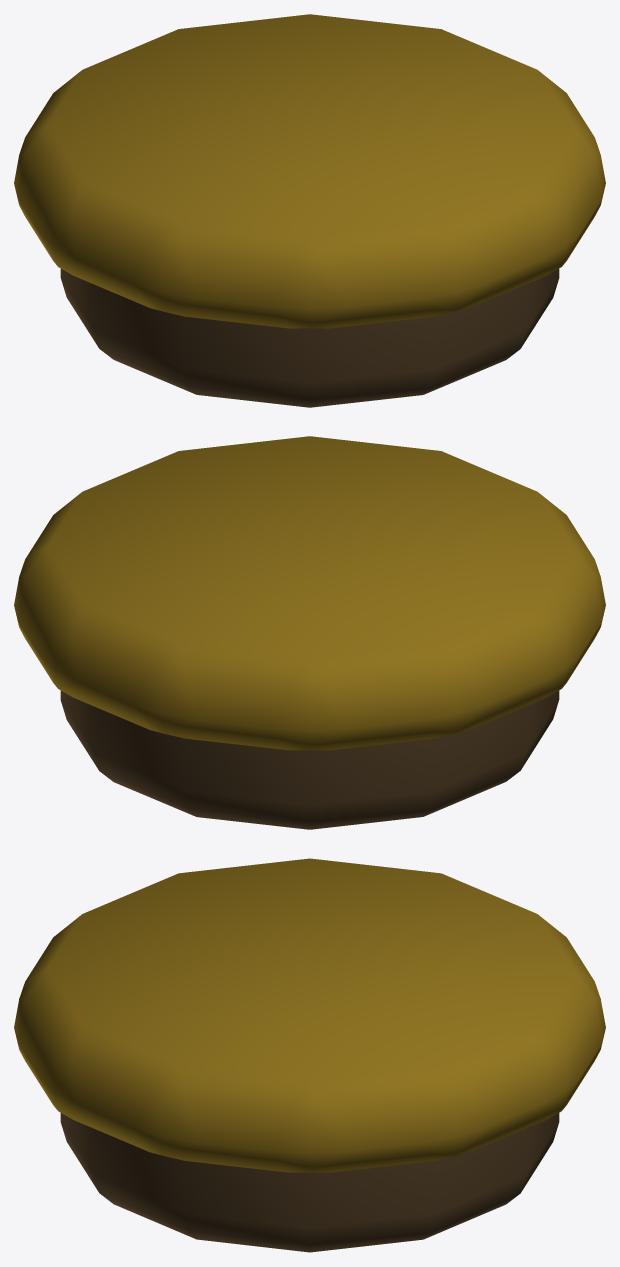
The model's file is Plateforme_Cercle_fly_m.fbx.
3 views of the same model, one above another, from view 1: azimuth 30°, elevation 25°; view 2: azimuth 150°, elevation 25°; view 3: azimuth 270°, elevation 25° (orthographic).
Visible parts, largest first — view 1: Cylinder.004; view 2: Cylinder.004; view 3: Cylinder.004.
Part boxes in pixels (x1,y1,x2,y2): Cylinder.004: (14, 14, 605, 407); Cylinder.004: (14, 436, 605, 829); Cylinder.004: (14, 858, 605, 1252).
Size of the model in its own units: 524 by 188 by 524.
